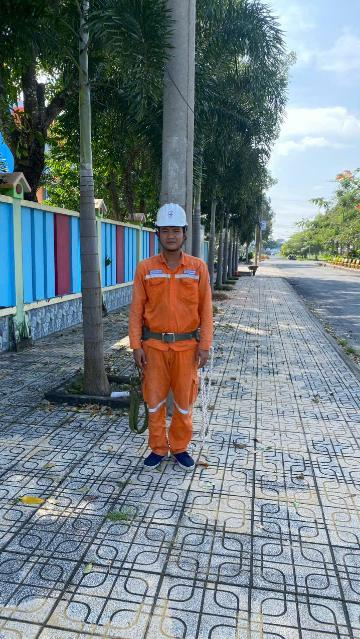harness: (130, 320, 209, 347)
helmet: (146, 197, 201, 241)
shoes: (136, 446, 171, 471), (173, 451, 201, 472)
